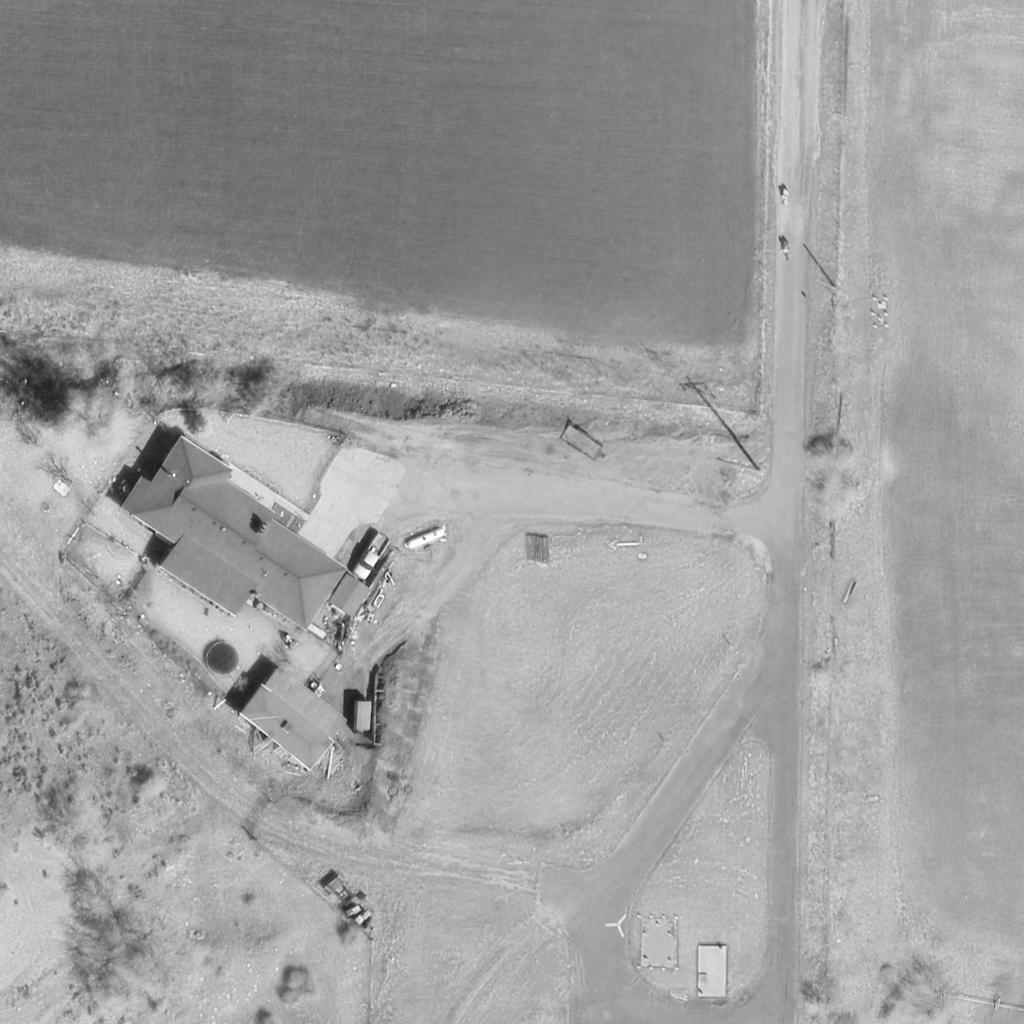vehicle: (356, 531, 392, 579)
